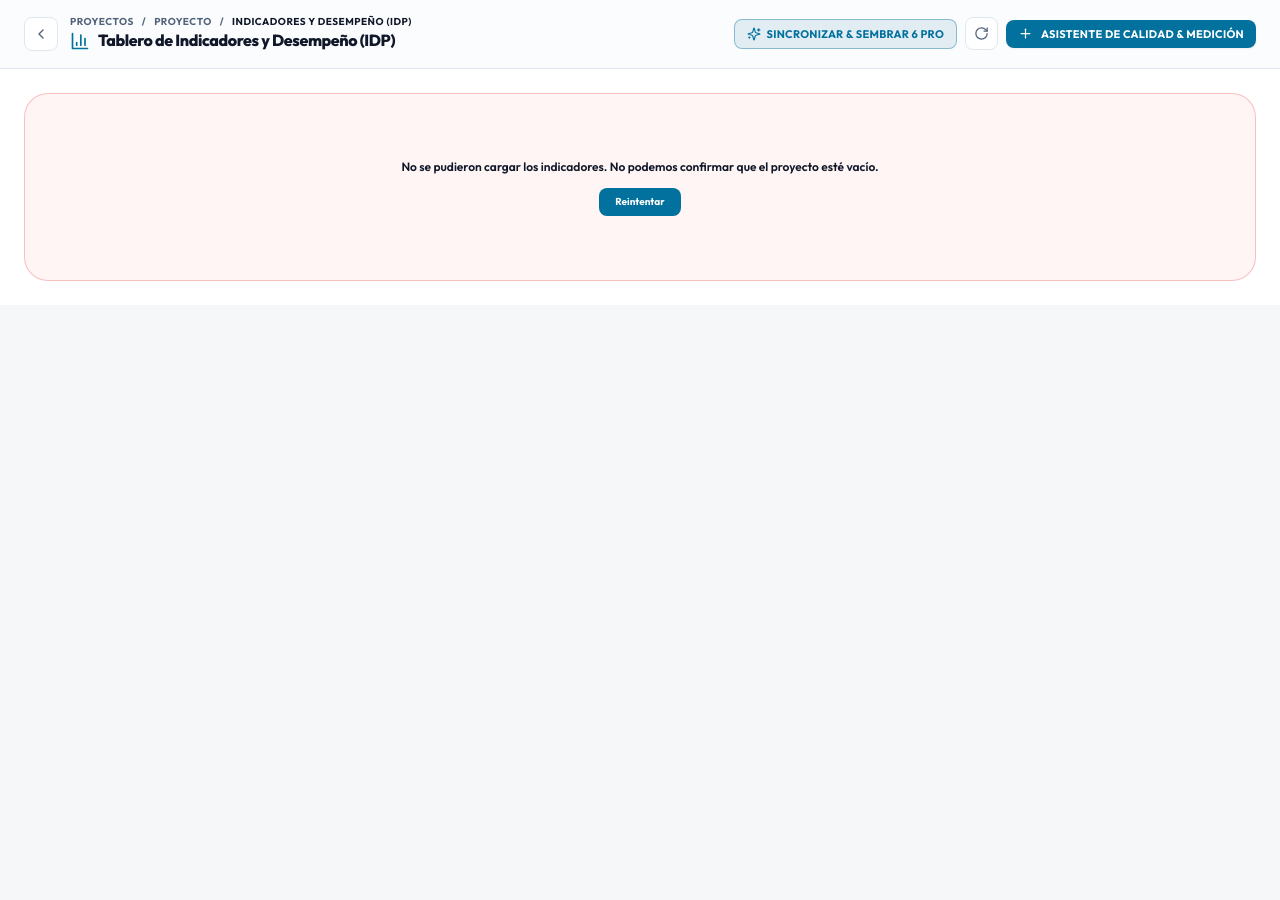
Test: ProjectIndicatorsPage loading recovery › keeps API failure distinct from a successful empty response and retries
Expected: the message shows "No se pudieron cargar los indicadores", [401, 159, 879, 174]
Expected: the text "Sin indicadores configurados" is not shown
Click the button "Reintentar".
click(640, 202)  # box [599, 188, 681, 216]
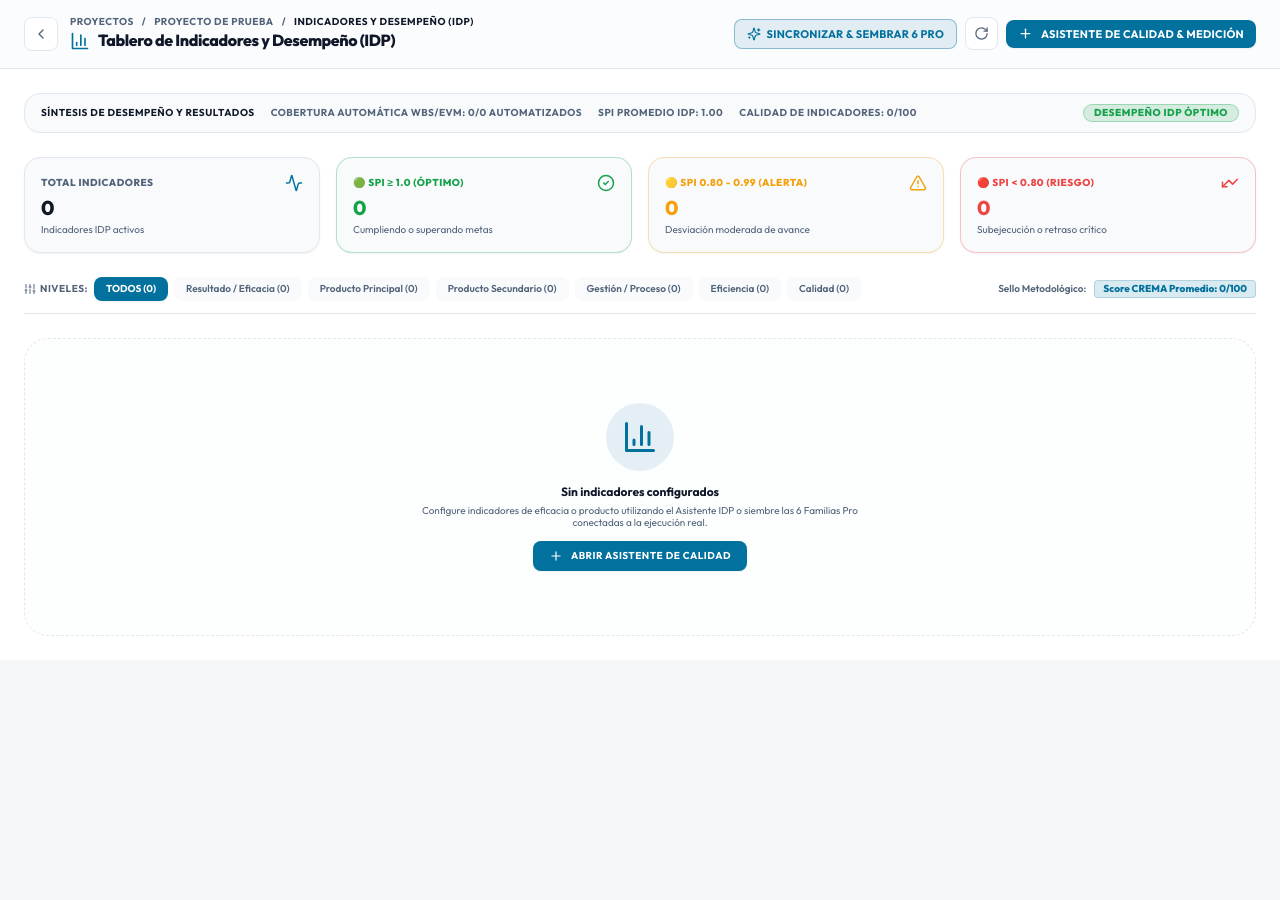
Now the heading "Sin indicadores configurados" is shown, box [561, 484, 719, 499]
